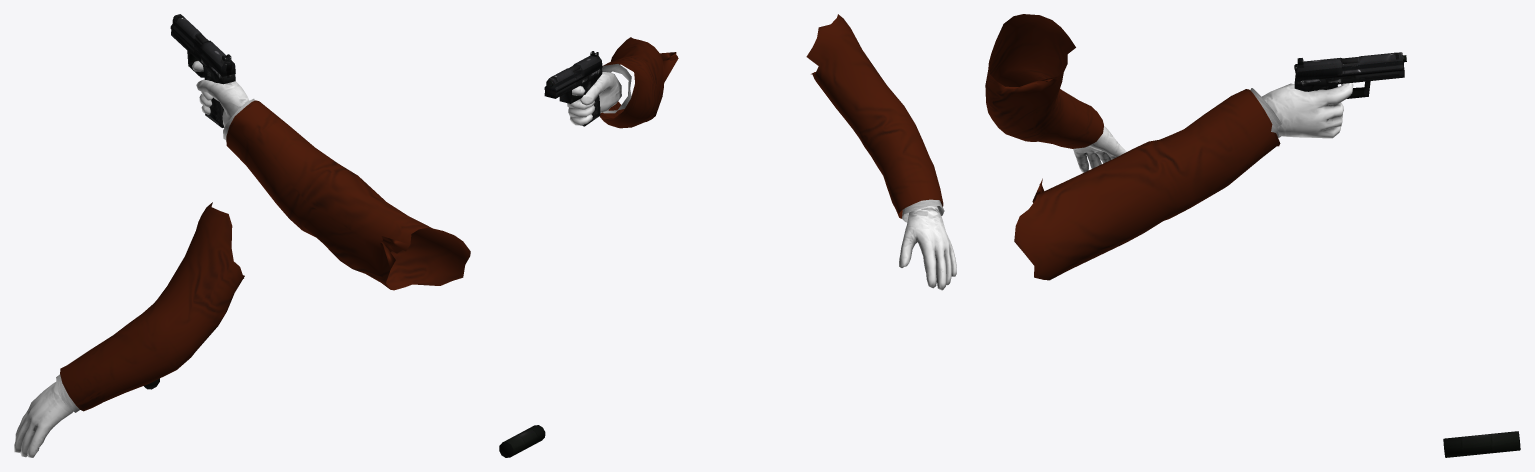
The model's file is frame_0006.obj.
The picture shows the model from 3 angles, left to right: view 1: azimuth 30°, elevation 25°; view 2: azimuth 150°, elevation 25°; view 3: azimuth 270°, elevation 25°; orthographic projection. The views are drawn at different scales.
Visible parts, largest first — view 1: PlayerModelMerged.001_PlayerModelMerged, glock_reference.001; view 2: PlayerModelMerged.001_PlayerModelMerged, glock_reference.001; view 3: PlayerModelMerged.001_PlayerModelMerged, glock_reference.001.
Part boxes in pixels (left/top/right/bottom): PlayerModelMerged.001_PlayerModelMerged: left=14, top=61, right=470, bottom=457; glock_reference.001: left=144, top=14, right=235, bottom=389; PlayerModelMerged.001_PlayerModelMerged: left=567, top=14, right=956, bottom=290; glock_reference.001: left=499, top=51, right=602, bottom=457; PlayerModelMerged.001_PlayerModelMerged: left=985, top=14, right=1353, bottom=280; glock_reference.001: left=1294, top=52, right=1520, bottom=457.
Bounding box in the file's own units: 1.15 × 1.03 × 1.23.
